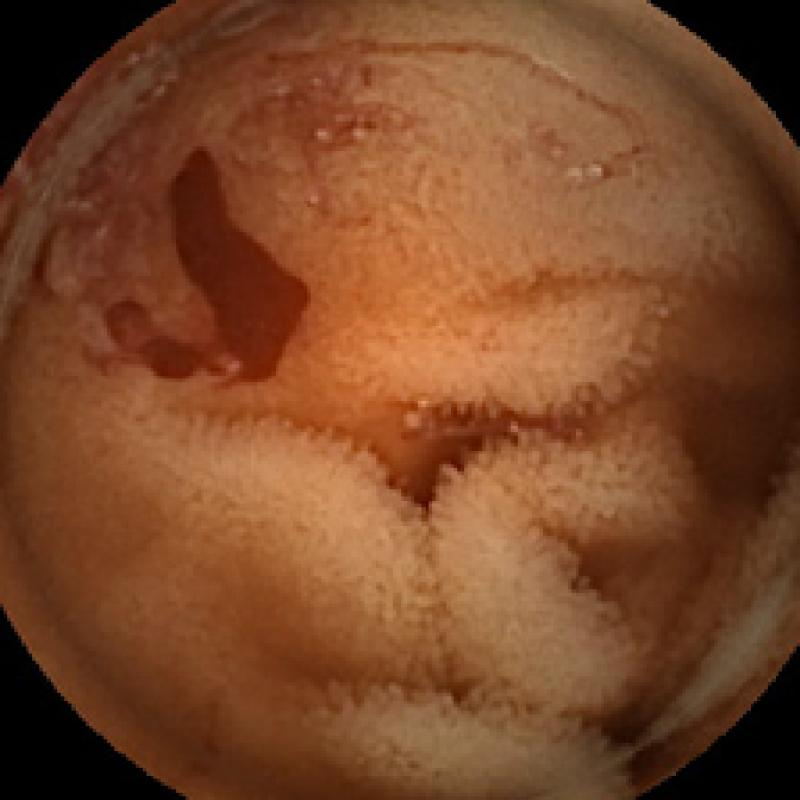bleeding: (104, 146, 314, 393)
